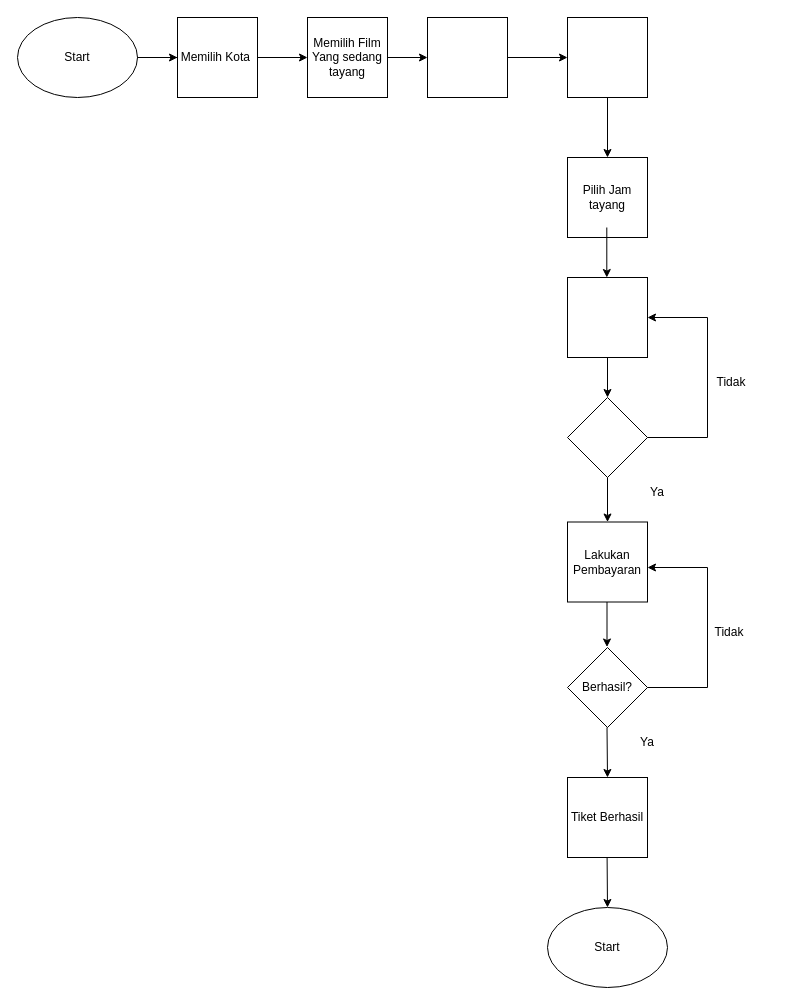
This 789x1005 diagram has some shape labels left out. The shapes that lost their labels are listed below. From the top down, each one's centre as x and y in pixels, then its label:
At (467,57): "Memilih Tanggal".
At (607,57): "Memilih Bioskop".
At (607,317): "Memilih kursi".
At (607,437): "Tersedia?".
